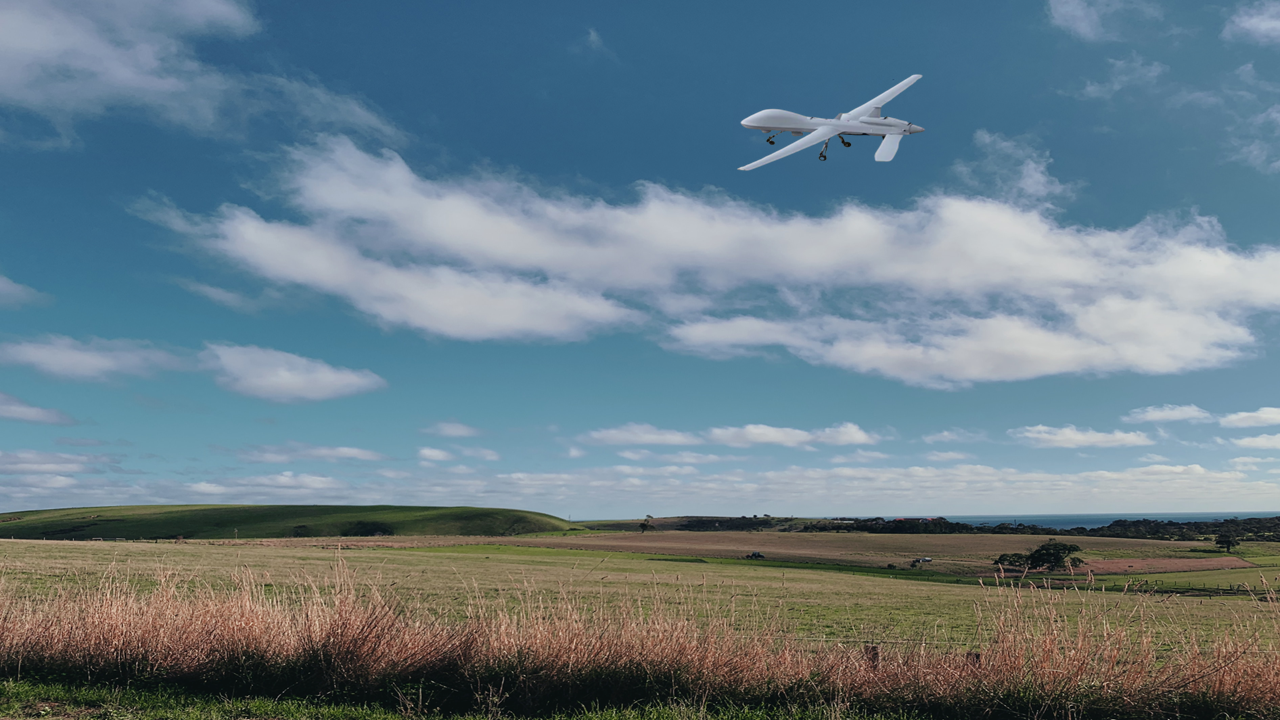military drone: (737, 74, 925, 170)
